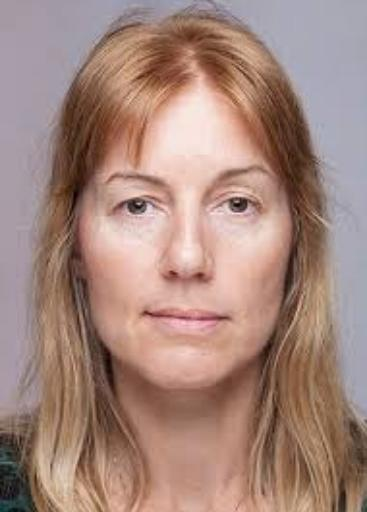left_eye: (213, 195, 264, 219)
left_lip_corner: (220, 310, 235, 328)
right_eye: (111, 195, 165, 220)
right_lip_corner: (139, 306, 156, 326)
